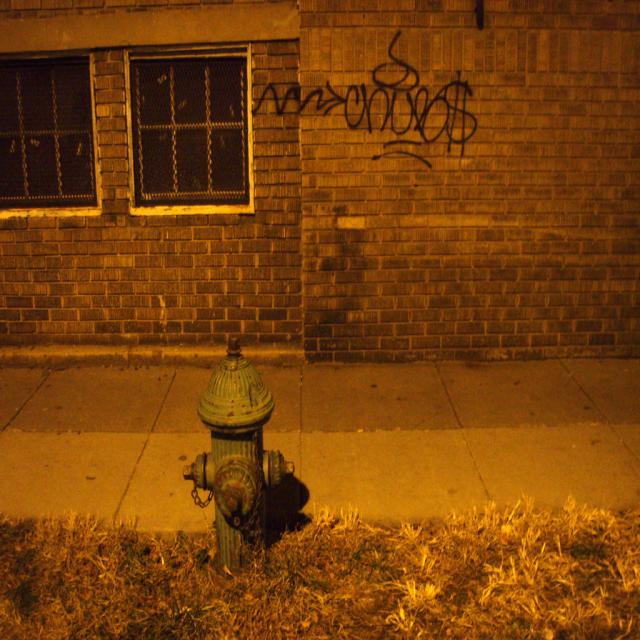fire_hydrant: (184, 335, 294, 573)
